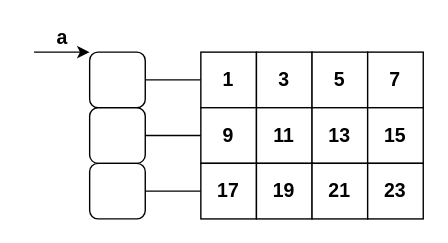
Image size: 448x243. Some labels were removed from this diagram. Each missing label, with the box of its shape:
a[0]: (88, 51, 145, 108)
a[1]: (88, 106, 145, 163)
a[2]: (88, 162, 145, 219)
